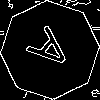A: (25, 25, 82, 81)
